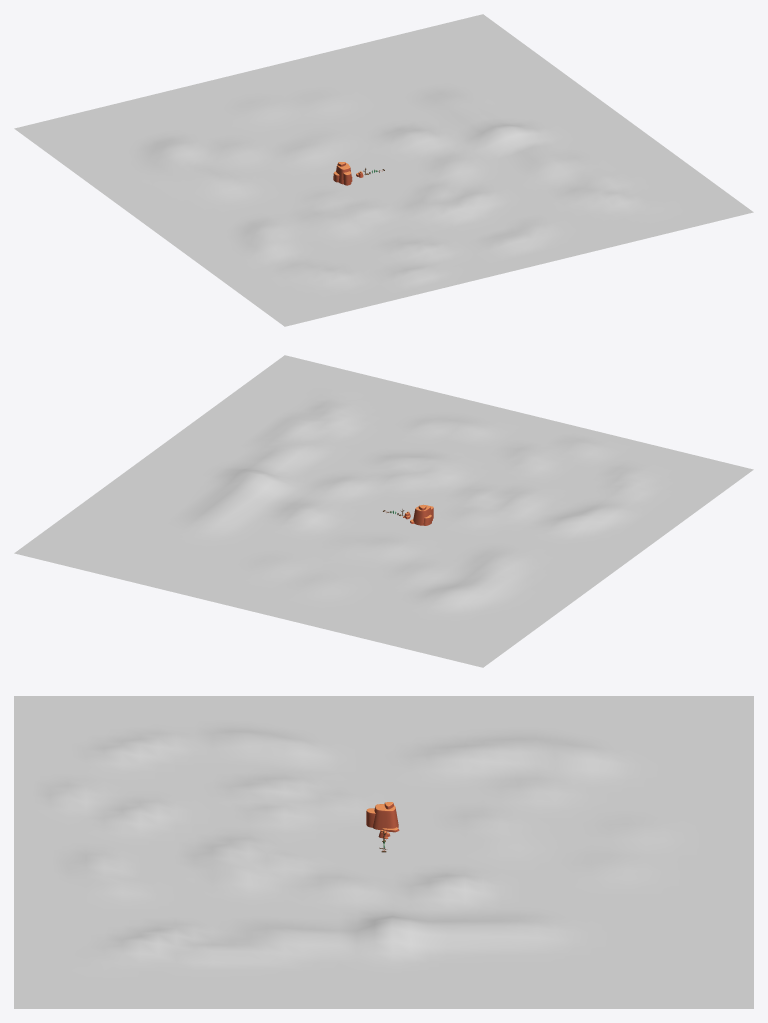
File: Desert.fbx
3 renders of one model, top to bottom at view 1: azimuth 30°, elevation 25°; view 2: azimuth 150°, elevation 25°; view 3: azimuth 270°, elevation 25°, orthographic. The views are drawn at different scales.
Parts seen in each view (by area): view 1: Desert.Ground; view 2: Desert.Ground; view 3: Desert.Ground, Desert.Rock.002.
Boxes of the visible parts, left/top/right/bottom form: Desert.Ground: left=14, top=14, right=753, bottom=326; Desert.Ground: left=14, top=355, right=753, bottom=667; Desert.Ground: left=14, top=696, right=753, bottom=1008; Desert.Rock.002: left=366, top=802, right=399, bottom=832.
Size of the model in its own units: 400 by 13.24 by 400.
